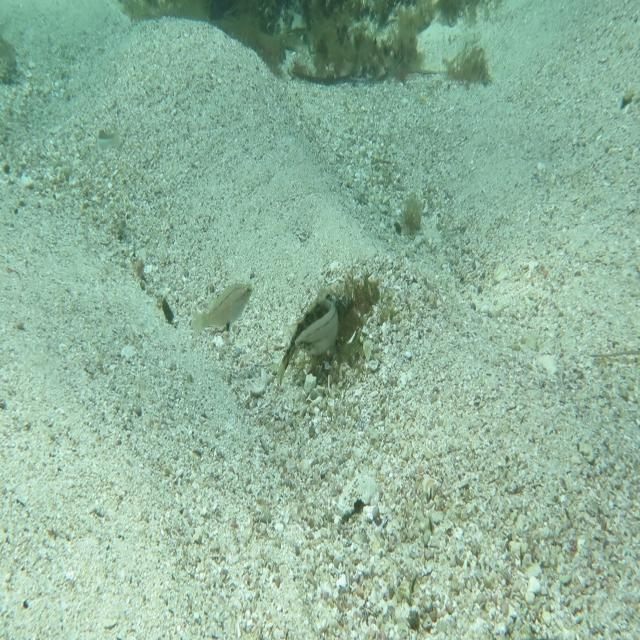Coris_julis_female: (96, 121, 124, 160)
LF: (272, 276, 359, 392)
female: (292, 288, 345, 362)
nest: (294, 263, 391, 379)
other_fish: (189, 272, 254, 346)
